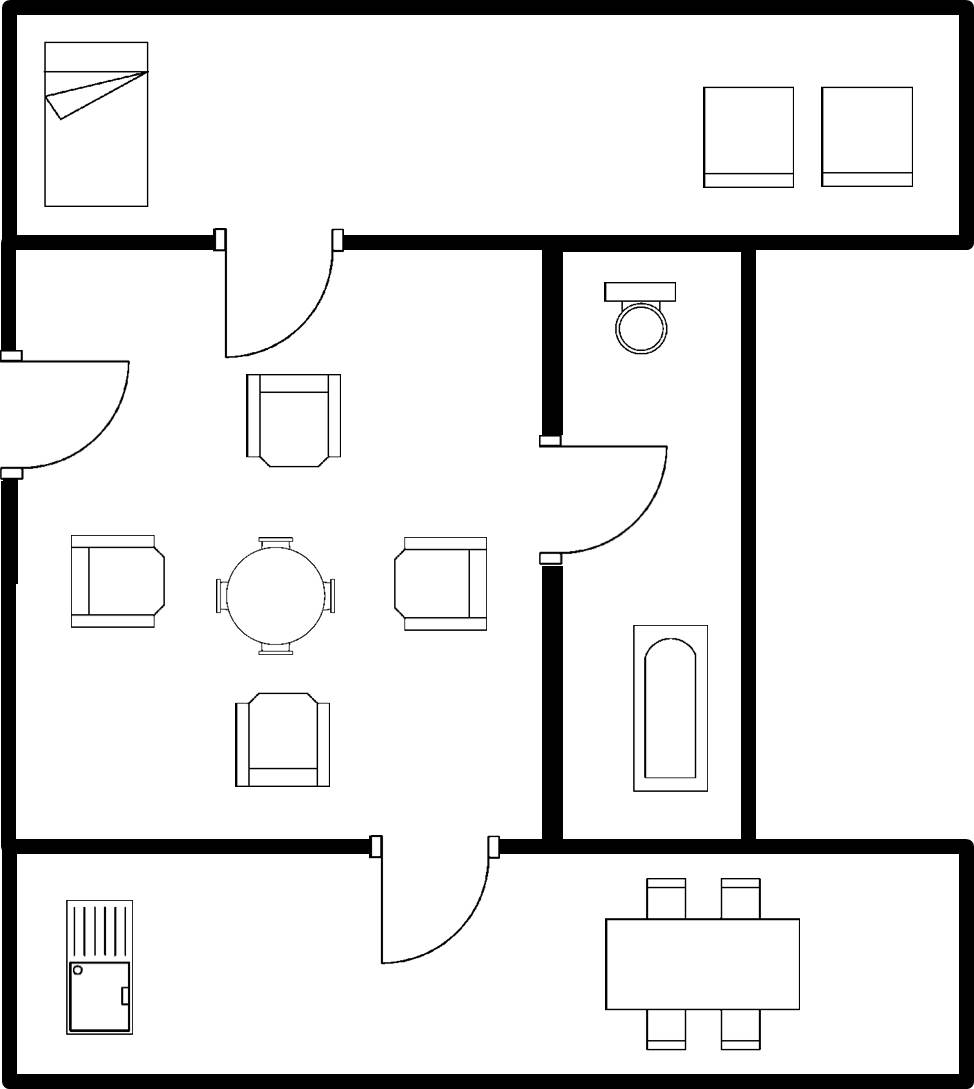armchair: (387, 530, 494, 639), (240, 368, 348, 475), (228, 688, 338, 793), (62, 528, 169, 635)
bed: (35, 34, 156, 216)
dining_table: (597, 871, 806, 1057)
large_sink: (598, 274, 682, 359)
round_table: (207, 528, 345, 662)
sink: (58, 893, 142, 1042)
small_sofa: (813, 79, 920, 196), (698, 77, 800, 196)
tub: (625, 619, 716, 802)
